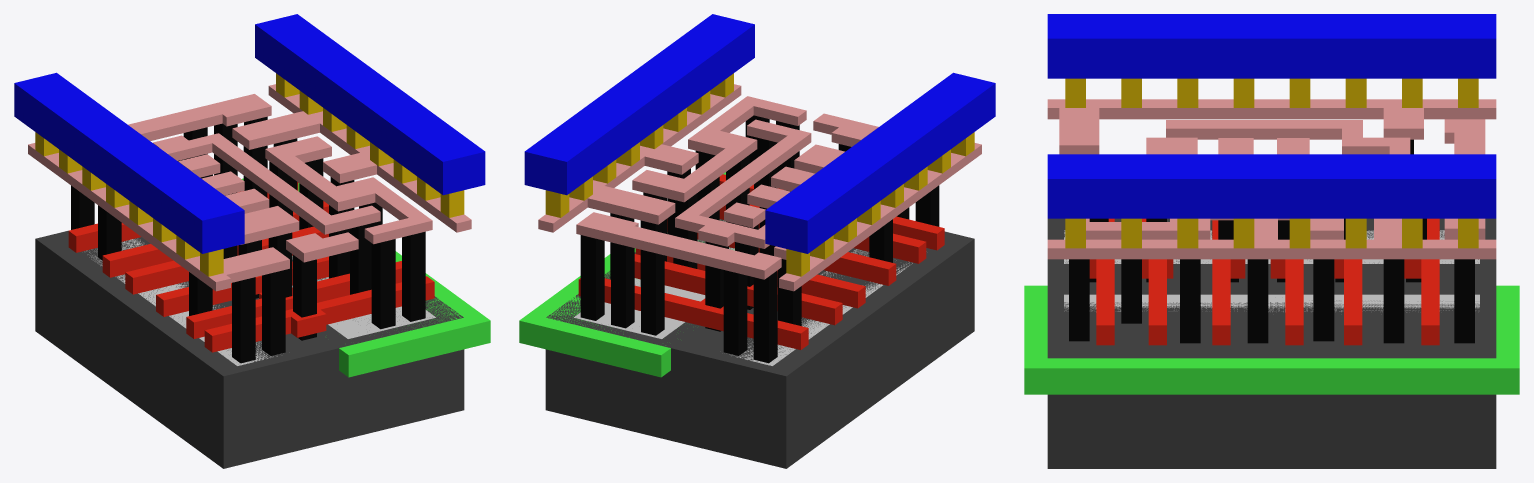
File: sky130_fd_sc_hd__a32o_1.obj
The picture shows the model from 3 angles, left to right: view 1: azimuth 30°, elevation 25°; view 2: azimuth 150°, elevation 25°; view 3: azimuth 270°, elevation 25°; orthographic projection. The views are drawn at different scales.
Parts seen in each view (by area): view 1: subs, metal1, li, licon, poly, nwell, mcon, diff, tap; view 2: subs, metal1, li, licon, poly, nwell, mcon, tap, diff; view 3: metal1, subs, li, nwell, licon, poly, mcon, tap, diff.
Boxes of the visible parts, x1=… form: subs: x1=35, y1=230, x2=464, y2=468; metal1: x1=14, y1=14, x2=485, y2=253; li: x1=28, y1=84, x2=471, y2=291; licon: x1=71, y1=116, x2=425, y2=363; poly: x1=68, y1=182, x2=434, y2=352; nwell: x1=242, y1=178, x2=490, y2=377; mcon: x1=35, y1=73, x2=464, y2=276; diff: x1=84, y1=238, x2=277, y2=365; tap: x1=292, y1=256, x2=435, y2=338; subs: x1=545, y1=219, x2=974, y2=468; metal1: x1=524, y1=14, x2=995, y2=253; li: x1=538, y1=84, x2=981, y2=291; licon: x1=580, y1=115, x2=939, y2=363; poly: x1=578, y1=174, x2=944, y2=349; nwell: x1=519, y1=172, x2=734, y2=377; mcon: x1=545, y1=73, x2=974, y2=276; tap: x1=574, y1=220, x2=734, y2=338; diff: x1=729, y1=249, x2=912, y2=365; metal1: x1=1047, y1=14, x2=1496, y2=218; subs: x1=1047, y1=218, x2=1496, y2=468; li: x1=1047, y1=99, x2=1496, y2=259; nwell: x1=1024, y1=285, x2=1519, y2=394; licon: x1=1069, y1=139, x2=1474, y2=343; poly: x1=1089, y1=218, x2=1439, y2=345; mcon: x1=1065, y1=78, x2=1478, y2=248; tap: x1=1064, y1=294, x2=1479, y2=312; diff: x1=1064, y1=230, x2=1479, y2=263.
Bounding box in the file's own units: 3.2 × 2.74 × 4.06.
